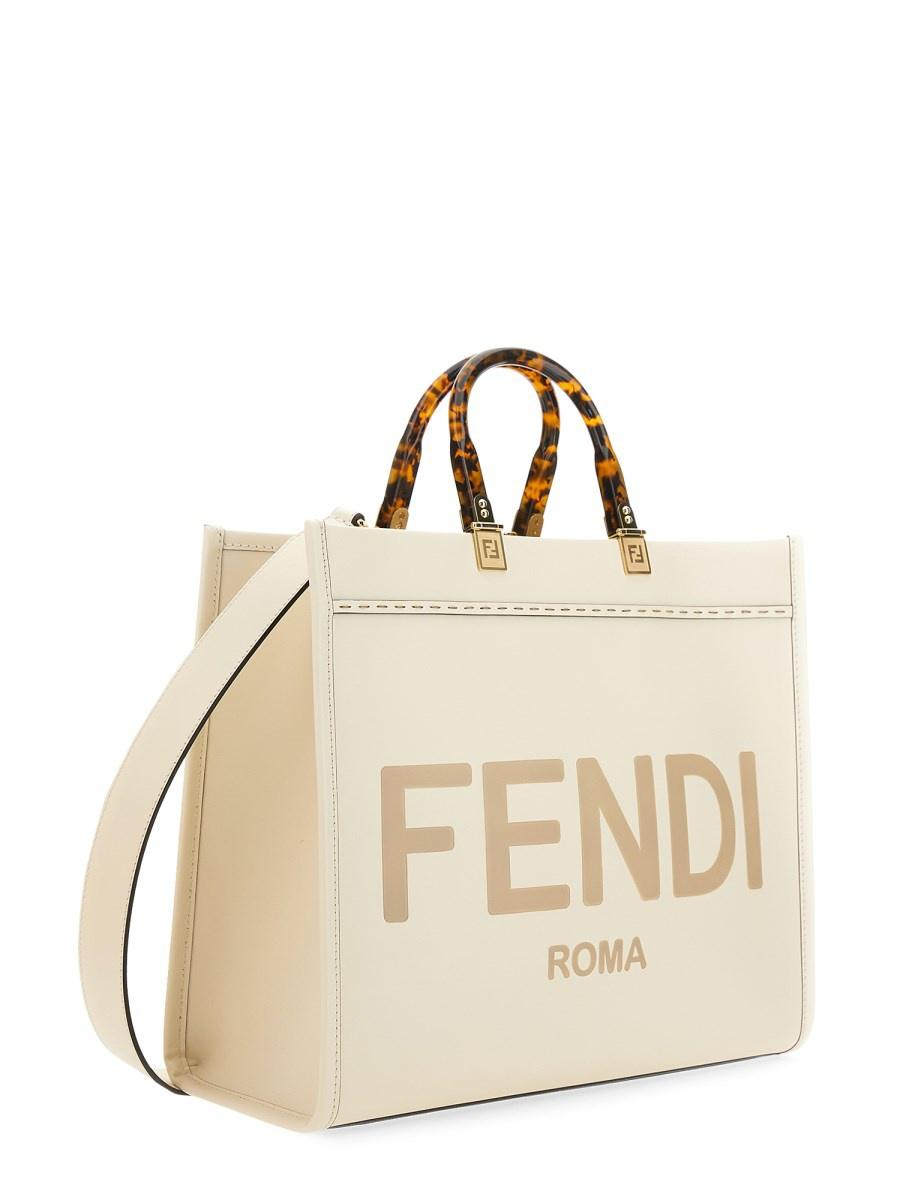FENDI: (379, 751, 765, 923)
